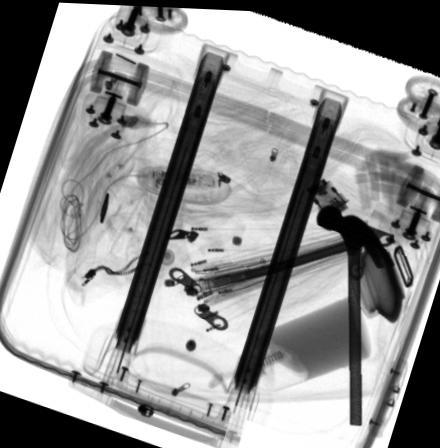Hammer: (315, 200, 395, 422)
